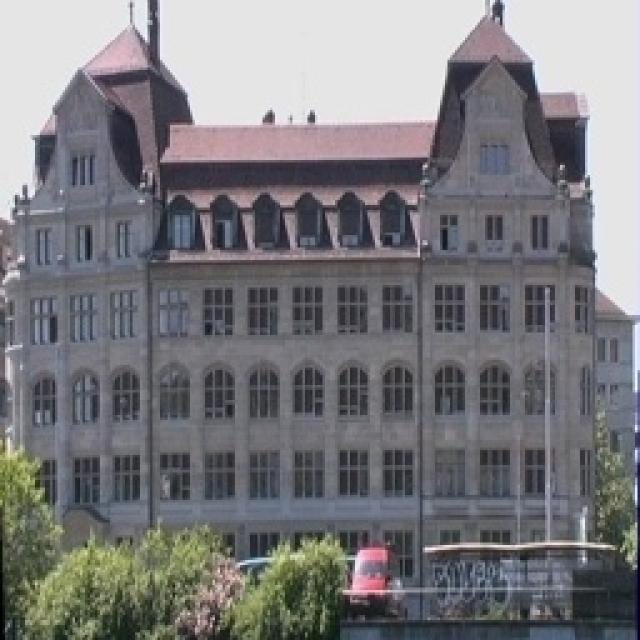building: (12, 32, 618, 640)
